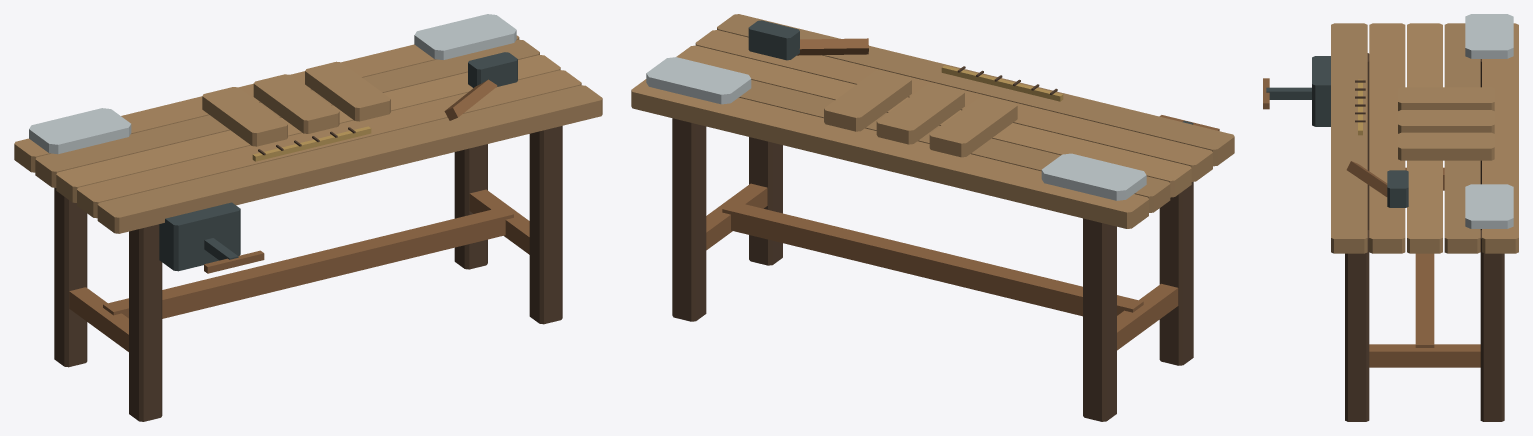
File: craft_bench_snow.glb
The picture shows the model from 3 angles, left to right: view 1: azimuth 30°, elevation 25°; view 2: azimuth 150°, elevation 25°; view 3: azimuth 270°, elevation 25°; orthographic projection. The views are drawn at different scales.
Visible parts, largest first — view 1: geometry; view 2: geometry; view 3: geometry.
Boxes of the visible parts, left/top/right/bottom form: geometry: left=14, top=14, right=602, bottom=421; geometry: left=631, top=14, right=1234, bottom=421; geometry: left=1263, top=14, right=1518, bottom=421.
Bounding box in the file's own units: 1.9 × 0.92 × 0.9525.
